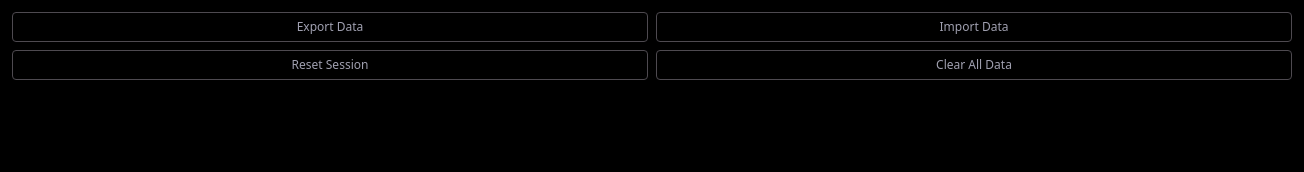
DataManagement › clear all data confirmation resets on blur
The width and height of the screenshot is (1304, 172).
Click the button "Clear All Data" at (974, 65), box [656,50,1292,80]
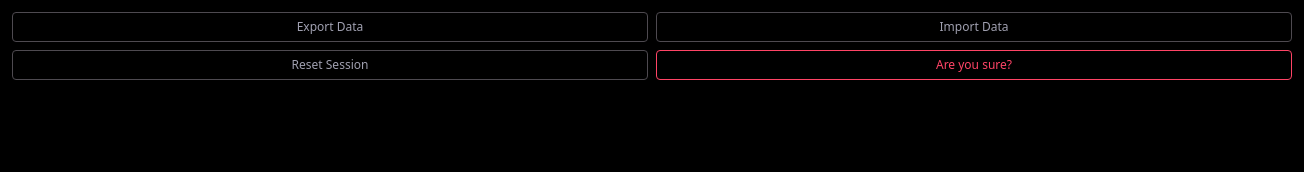
Expected: the button "Are you sure?" is shown
Note: Blur the button
Leave the button "Are you sure?", box [656,50,1292,80]
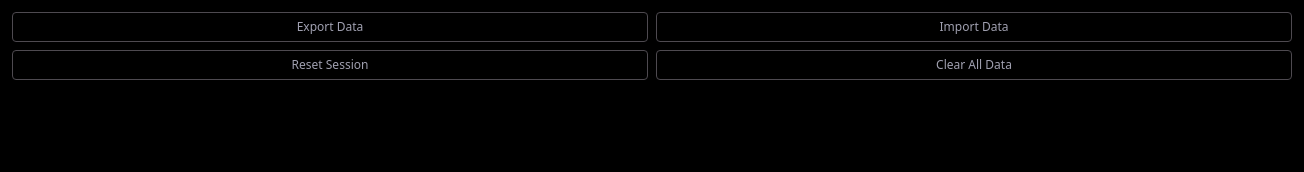
Expected: the button "Clear All Data" is shown, [656,50,1292,80]
